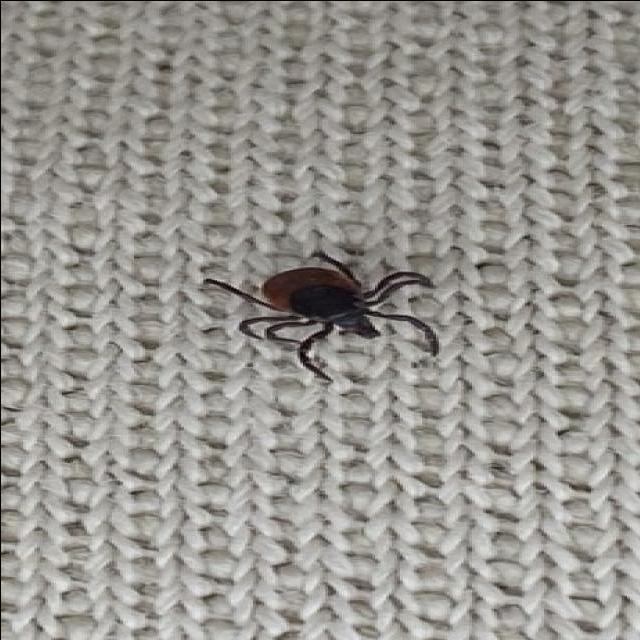Ixodes Ricinus-F: (199, 248, 441, 380)
